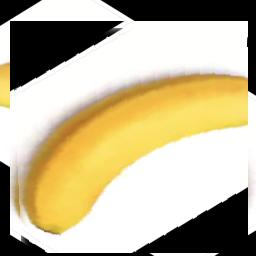Banana Fresh: (11, 21, 249, 253)
